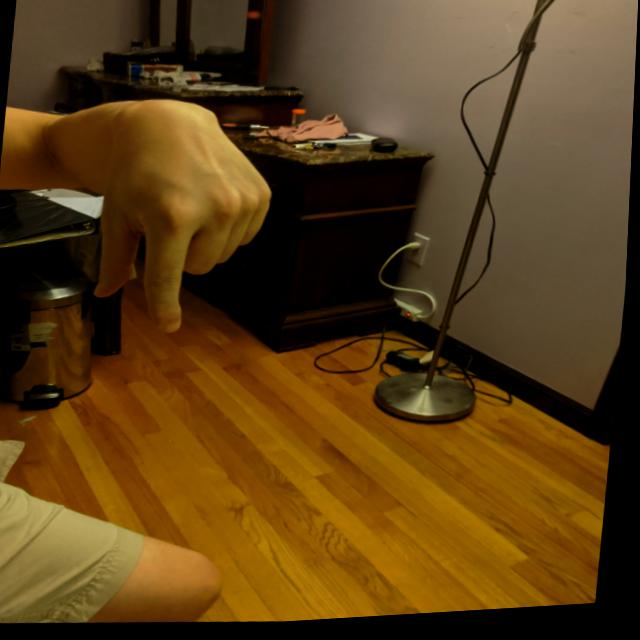Q: (84, 87, 290, 351)
